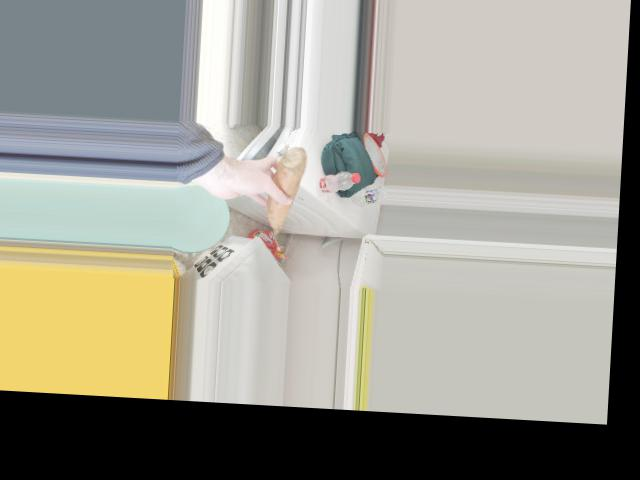sweet_potato: (270, 146, 301, 238)
